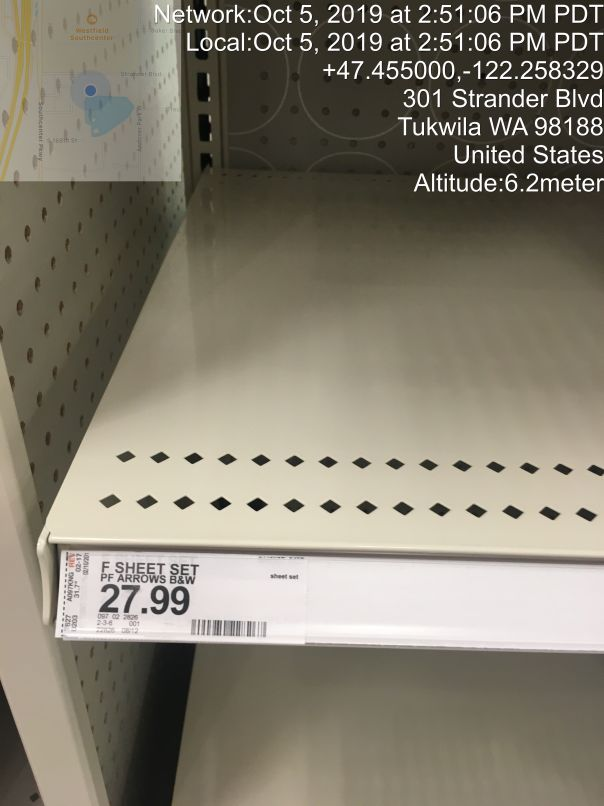Label: (61, 549, 313, 647)
Location: (391, 84, 604, 173)
Time: (148, 3, 604, 55)
Void: (211, 117, 535, 511)
